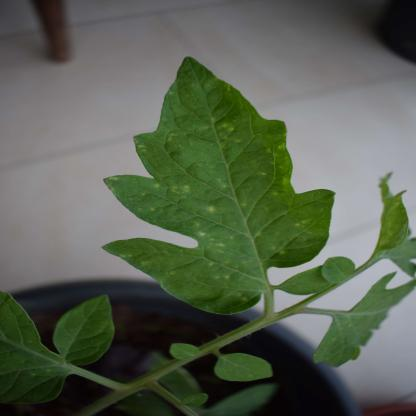Tomato mold leaf: (95, 45, 339, 313)
